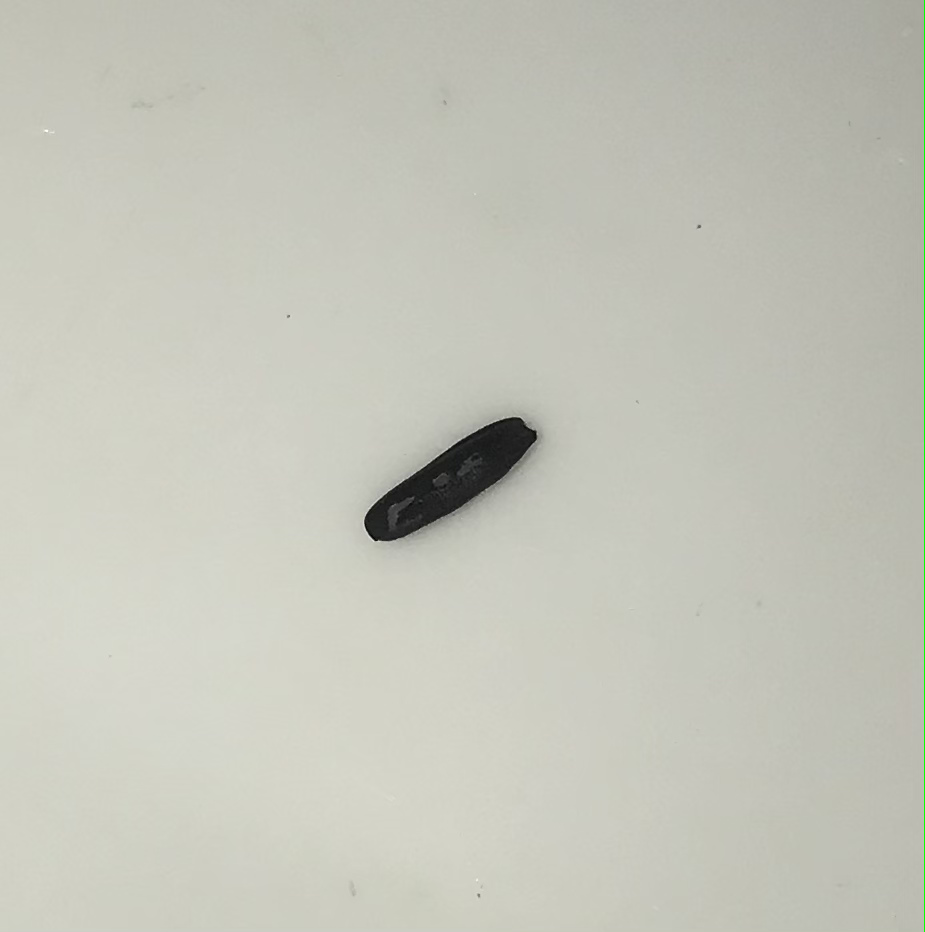Gao Nep Cam: (354, 411, 556, 556)
